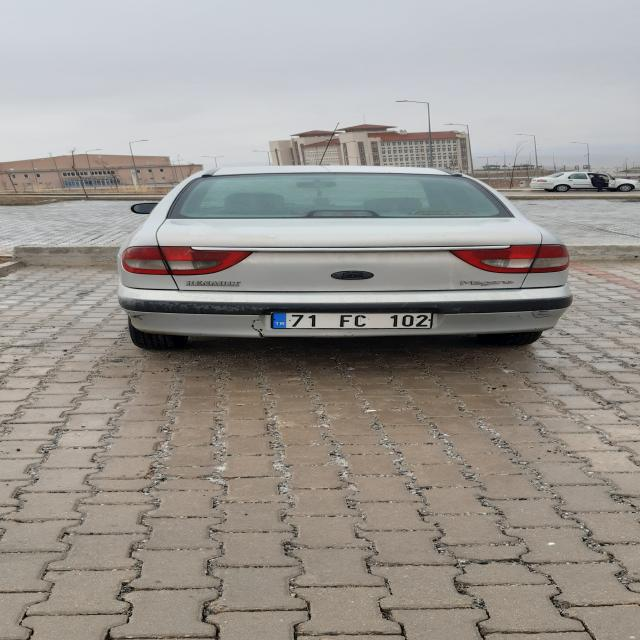plate: (268, 312, 434, 329)
